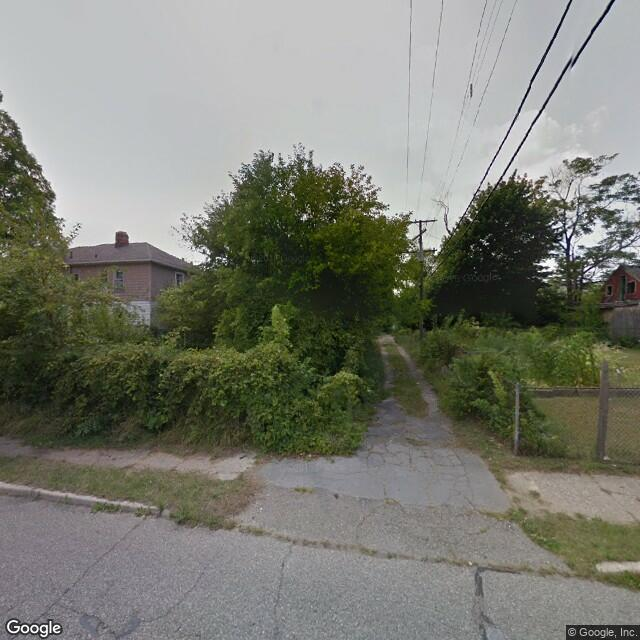litter: (600, 454, 613, 463), (306, 451, 313, 458)
